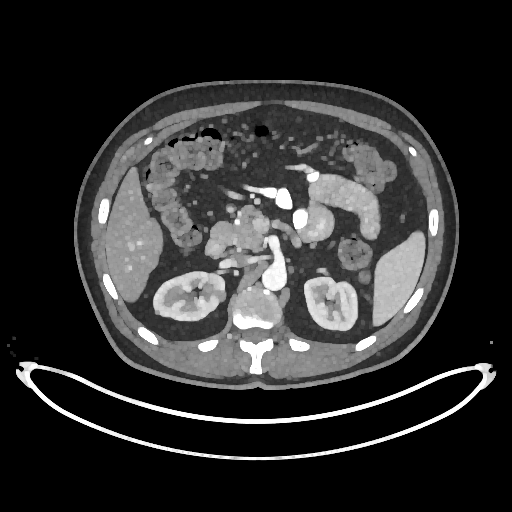Lesion: (212, 288, 228, 307)
